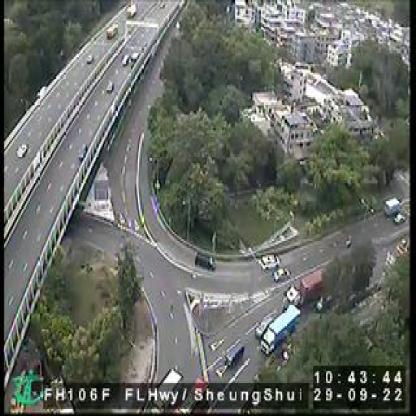Car: (219, 338, 245, 371), (194, 246, 216, 271), (75, 139, 90, 166), (256, 253, 280, 269), (250, 319, 272, 334), (272, 265, 290, 283), (14, 140, 29, 158), (105, 76, 116, 96), (393, 210, 404, 227), (83, 52, 94, 64), (119, 54, 128, 68)
Truck: (280, 270, 324, 321), (258, 303, 300, 354), (385, 194, 403, 222), (103, 19, 118, 40), (125, 2, 139, 21)
